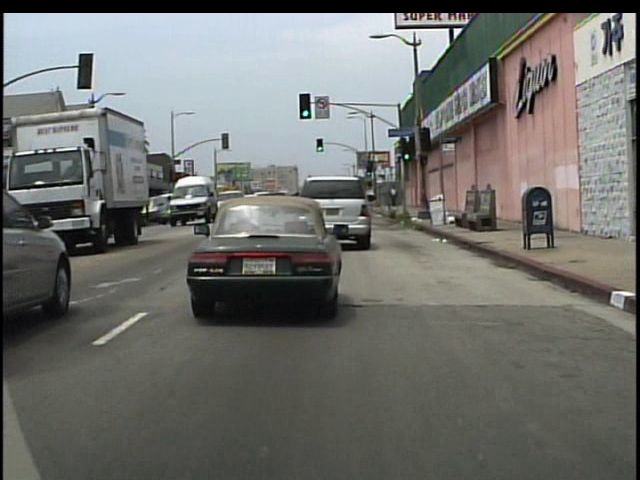person: (391, 184, 401, 207)
